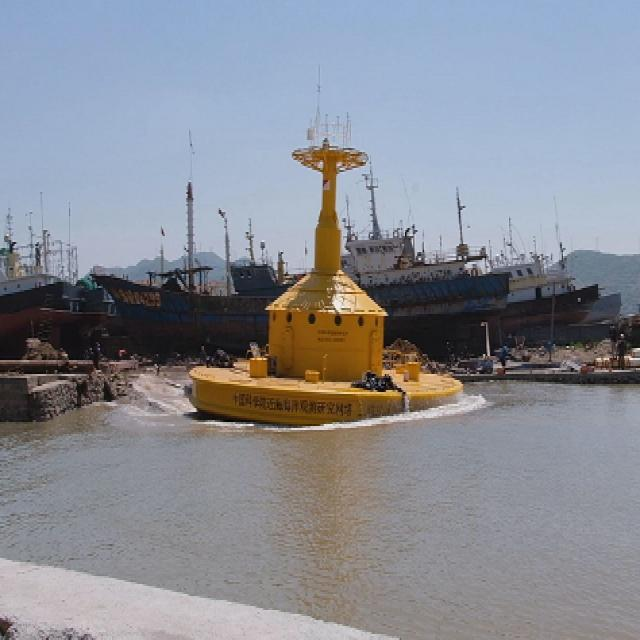buoy: (183, 112, 461, 422)
